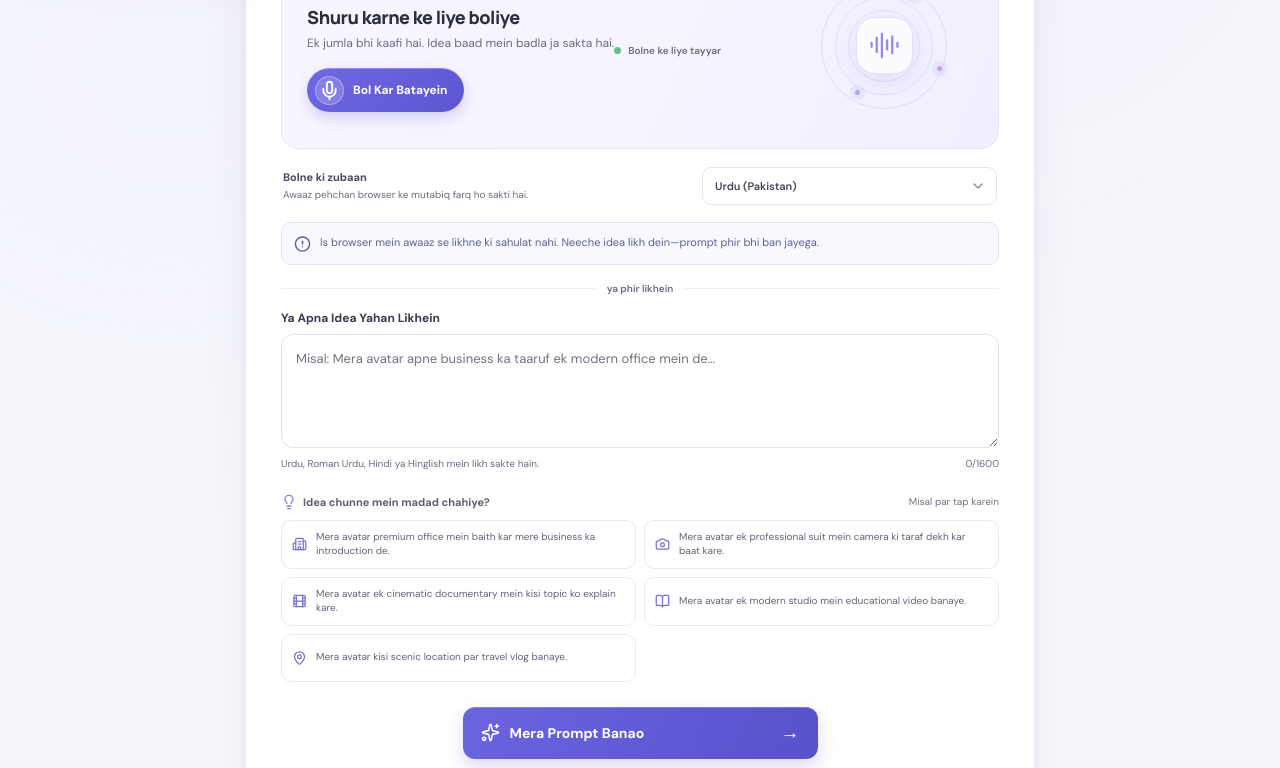
Scenario: Flow Prompt Assistant workflow › builds a transparently labeled local prompt when the server cannot be reached
The image size is (1280, 768).
(page scrolled)
Type "My avatar waves at sunrise." into the text box labelled "Ya Apna Idea Yahan Likhein" at (640, 391), box [281, 334, 999, 448]
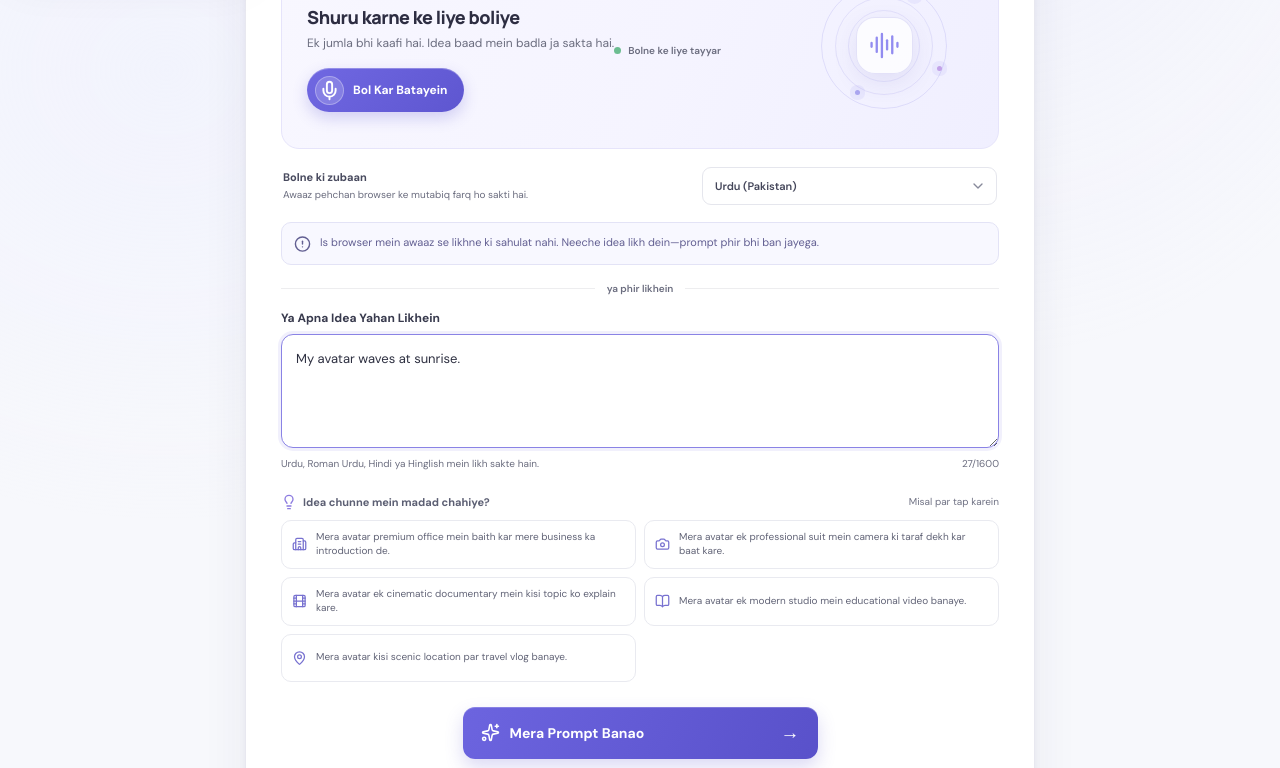
Click the button "Mera Prompt Banao →" at (640, 732), box [462, 706, 818, 758]
(page scrolled)
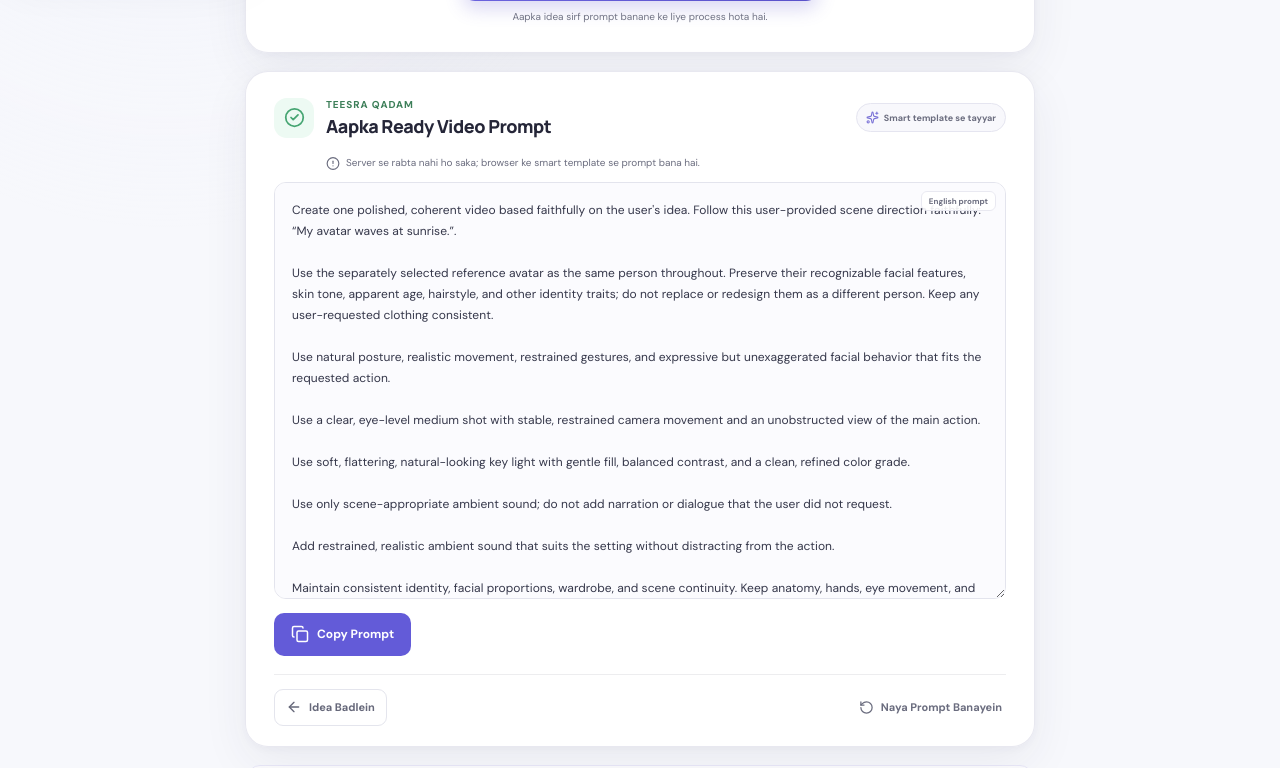
expect the heading "Aapka Ready Video Prompt" is shown: met, box [326, 114, 551, 138]
expect the text "Smart template se tayyar" is shown: met, box [856, 103, 1006, 132]
expect the text "Server se rabta nahi ho saka" is shown: met, box [346, 156, 700, 169]
